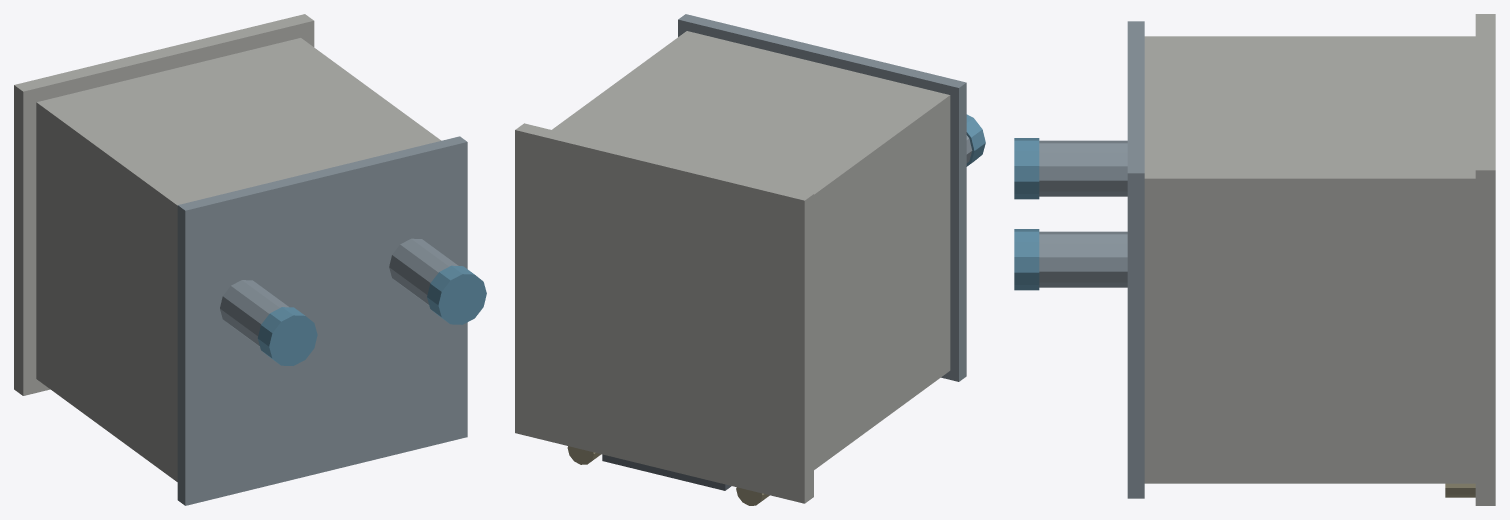
Rendered from AGE_VII_industrial.glb.
3 views of the same model, side by side, from view 1: azimuth 30°, elevation 25°; view 2: azimuth 150°, elevation 25°; view 3: azimuth 270°, elevation 25° (orthographic). The views are drawn at different scales.
Parts seen in each view (by area): view 1: world; view 2: world; view 3: world.
Boxes of the visible parts, x1,y1,x2,y2 form: world: [14, 14, 486, 505]; world: [515, 14, 985, 505]; world: [1014, 14, 1495, 505].
Bounding box in the file's own units: 6.6 × 7.05 × 8.59.
